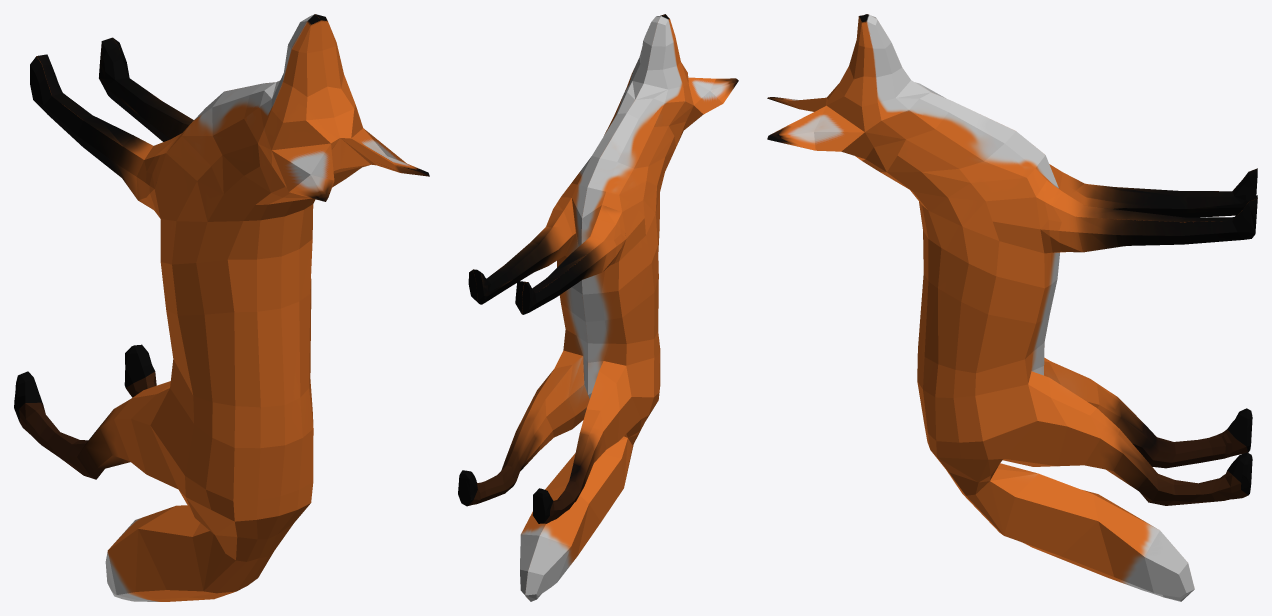
File: fox1.glb
3 renders of one model, left to right at view 1: azimuth 30°, elevation 25°; view 2: azimuth 150°, elevation 25°; view 3: azimuth 270°, elevation 25°, orthographic. The views are drawn at different scales.
Visible parts, largest first — view 1: Plane; view 2: Plane; view 3: Plane.
Boxes of the visible parts, box(x1,y1,x2,y2) form: Plane: box(14, 14, 429, 601); Plane: box(458, 14, 738, 601); Plane: box(767, 14, 1257, 601).
Size of the model in its own units: 1.69 by 8.75 by 6.62.
1 material, 1 textured.
